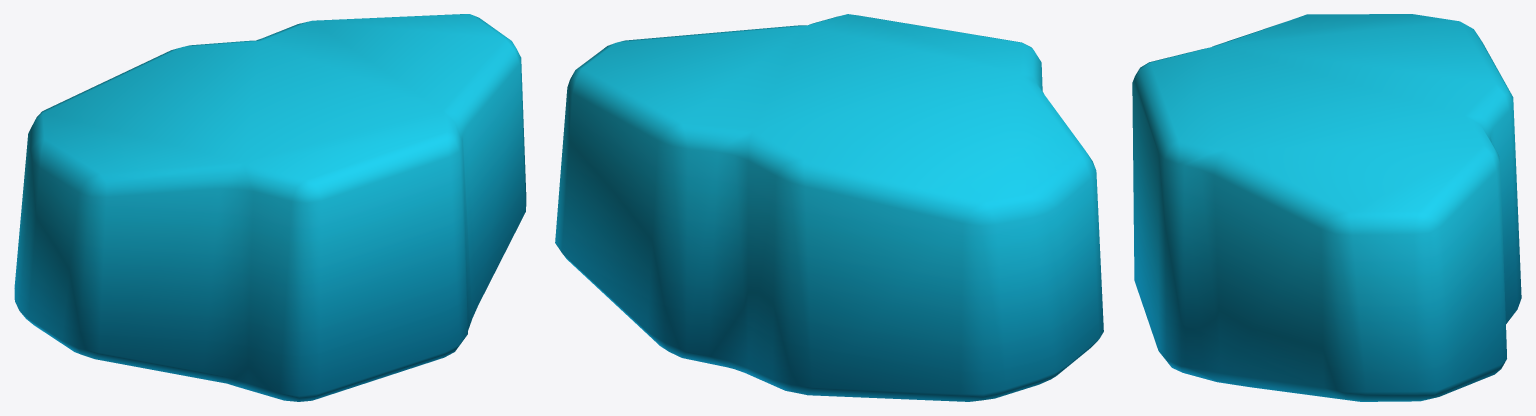
File: Ice_03.fbx
3 renders of one model, left to right at view 1: azimuth 30°, elevation 25°; view 2: azimuth 150°, elevation 25°; view 3: azimuth 270°, elevation 25°, orthographic. The views are drawn at different scales.
Visible parts, largest first — view 1: Ice_03; view 2: Ice_03; view 3: Ice_03.
Boxes of the visible parts, x1,y1,x2,y2 form: Ice_03: (14, 14, 526, 401); Ice_03: (555, 14, 1103, 401); Ice_03: (1132, 14, 1521, 401).
Bounding box in the file's own units: 672 × 456 × 303.
